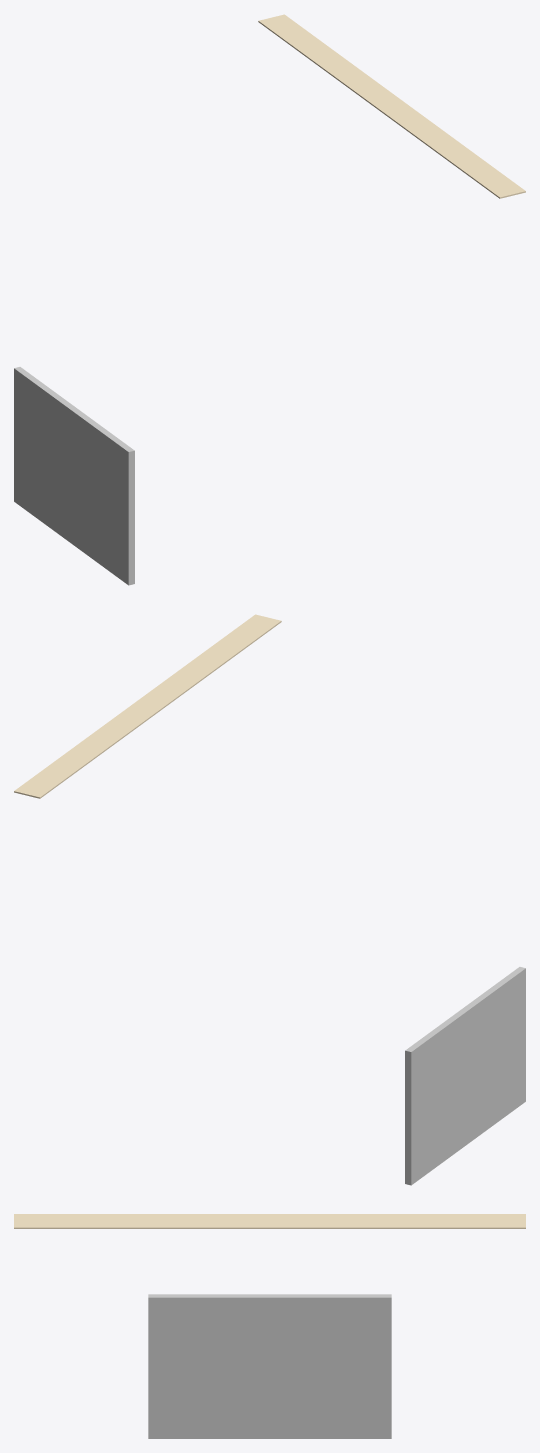
File: habWindowJRb_steel_glass.glb
The picture shows the model from 3 angles, top to bottom: view 1: azimuth 30°, elevation 25°; view 2: azimuth 150°, elevation 25°; view 3: azimuth 270°, elevation 25°; orthographic projection. The views are drawn at different scales.
Parts seen in each view (by area): view 1: habWindowJRb_steel_glass; view 2: habWindowJRb_steel_glass; view 3: habWindowJRb_steel_glass.
Part boxes in pixels (x1,y1,x2,y2): habWindowJRb_steel_glass: (14, 14, 525, 585); habWindowJRb_steel_glass: (14, 614, 525, 1185); habWindowJRb_steel_glass: (14, 1214, 525, 1438).
Bounding box in the file's own units: 1.28 × 1.31 × 1.6.
